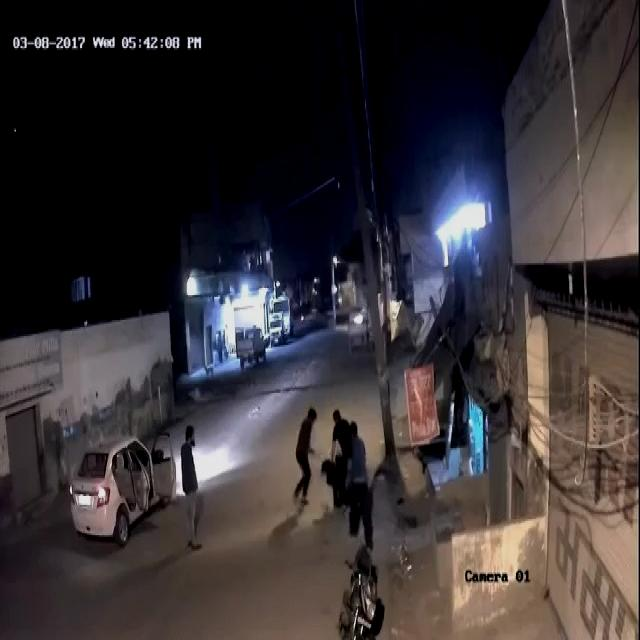fight: (321, 406, 347, 513)
